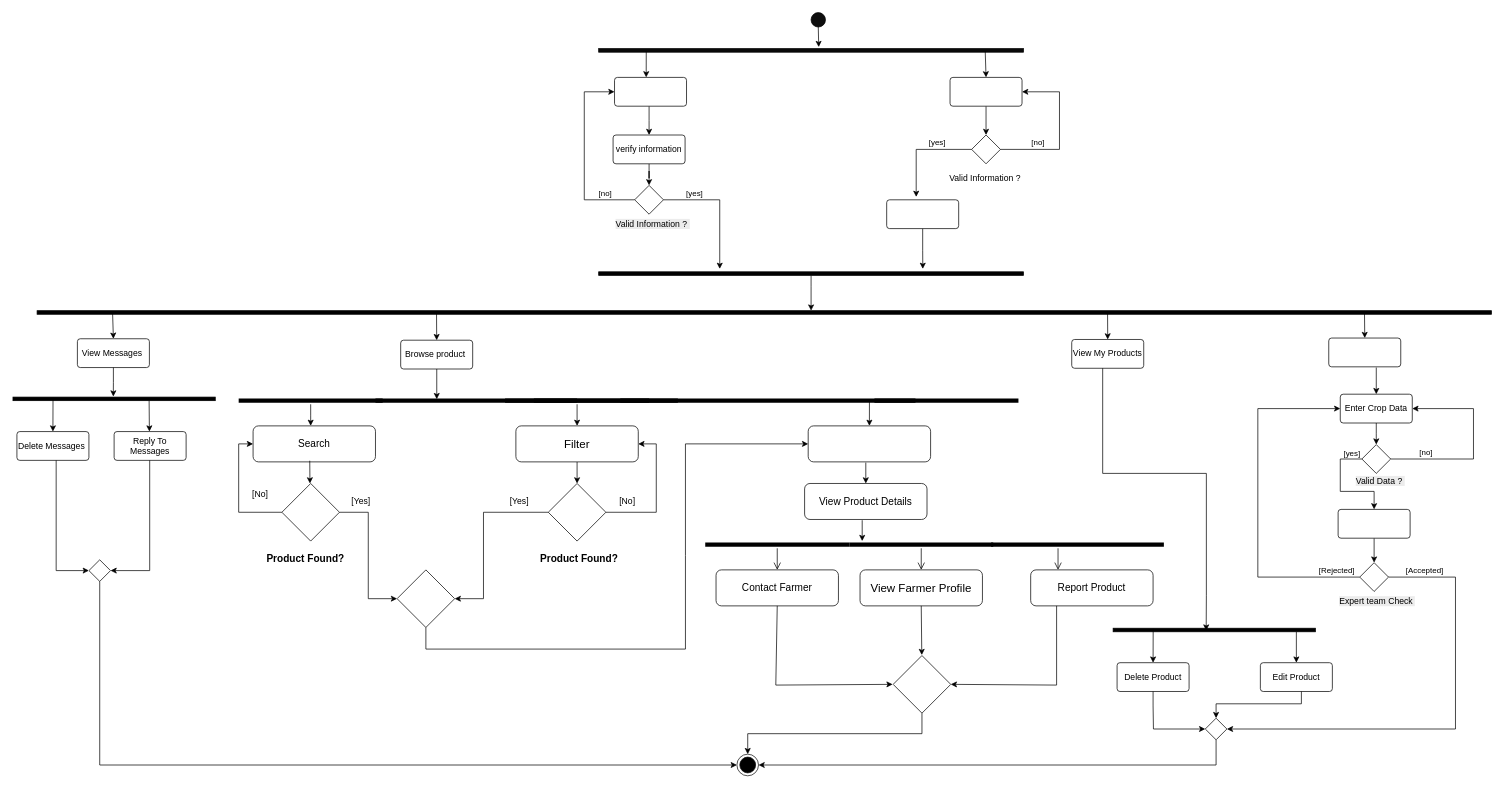
Some shapes in this 1504 by 788 pixel diagram are drawn without their labels. The shapes that lost their labels are listed below. From the top down, each one's centre as x and y in pixels, then its label:
the point at 650,91: SignUp
the point at 985,91: Login
the point at 922,214: Access System Features
the point at 1364,352: Add New Product
the point at 869,443: View Available Products
the point at 1373,523: Submit Product
